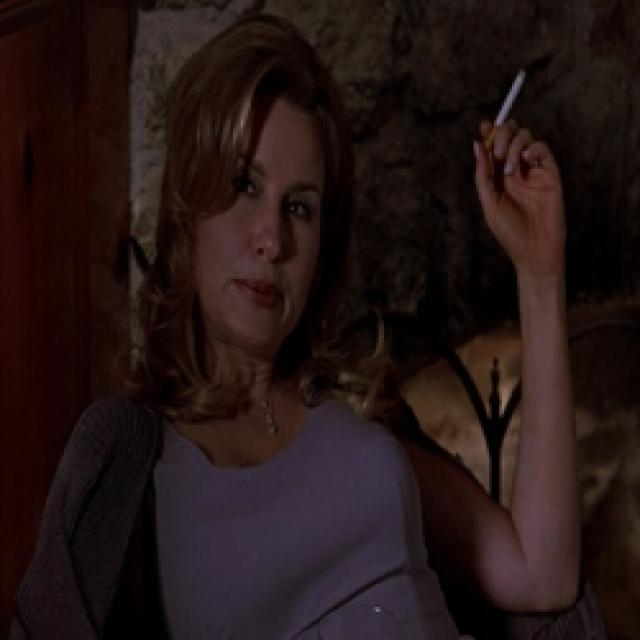Smooking: (482, 63, 537, 130)
